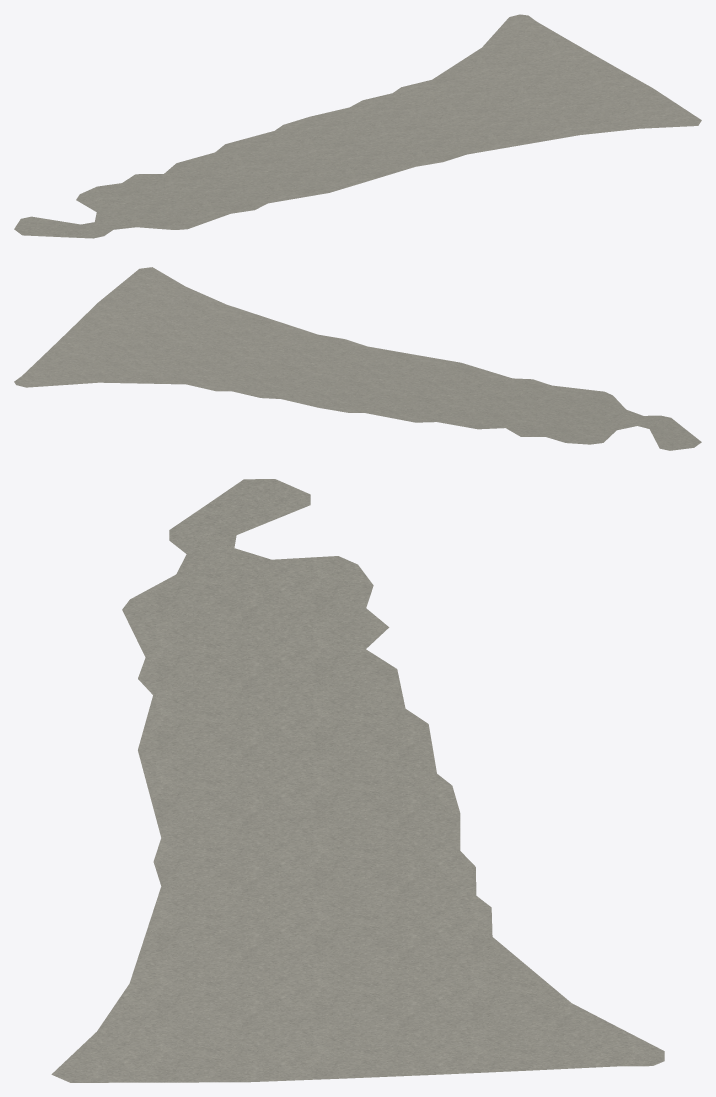
The model's file is path_02.gltf.
The picture shows the model from 3 angles, top to bottom: view 1: azimuth 30°, elevation 25°; view 2: azimuth 150°, elevation 25°; view 3: azimuth 270°, elevation 25°; orthographic projection. The views are drawn at different scales.
Visible parts, largest first — view 1: path_02.surface; view 2: path_02.surface; view 3: path_02.surface.
Boxes of the visible parts, left/top/right/bottom form: path_02.surface: left=14, top=14, right=701, bottom=238; path_02.surface: left=14, top=267, right=701, bottom=450; path_02.surface: left=51, top=479, right=664, bottom=1082.
Size of the model in its own units: 17.79 by 0.2224 by 7.8.
Materials: 1 (1 with a texture image).
